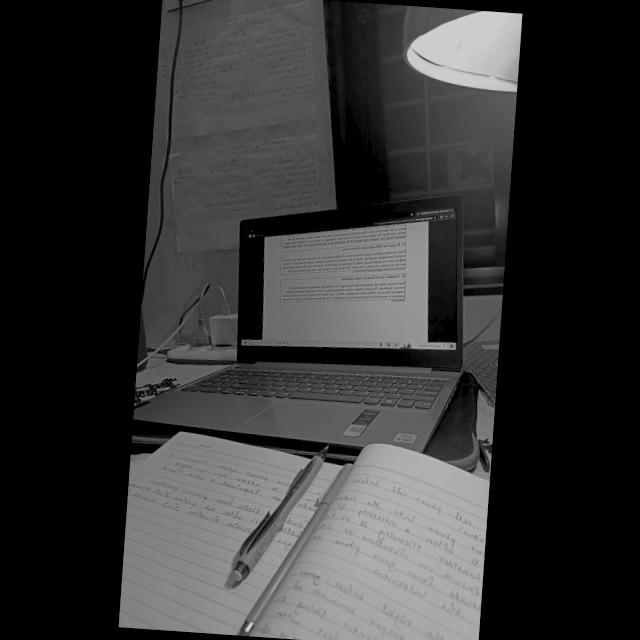laptop: (132, 144, 483, 458)
